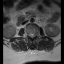CCS_normal: (31, 31, 33, 40)
LFS_normal: (35, 31, 37, 38)
LLS_normal: (33, 31, 35, 38)
RFS_normal: (27, 31, 29, 38)
RLS_normal: (29, 31, 31, 38)
